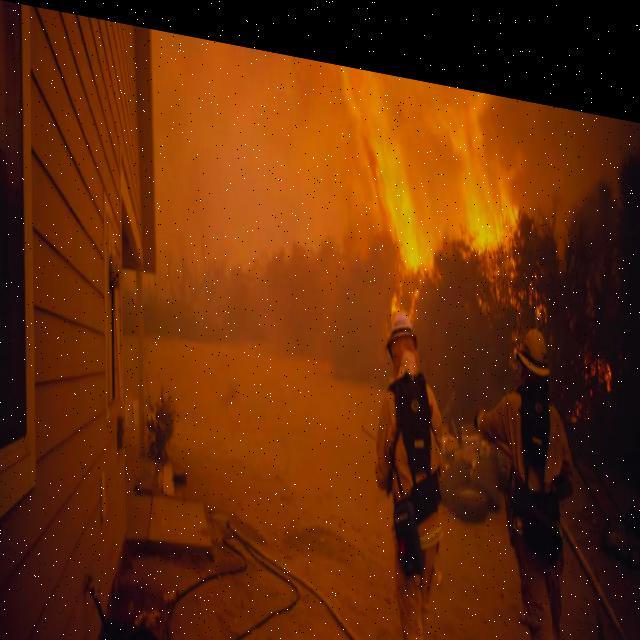Fire: (337, 56, 449, 316), (448, 77, 540, 293)
